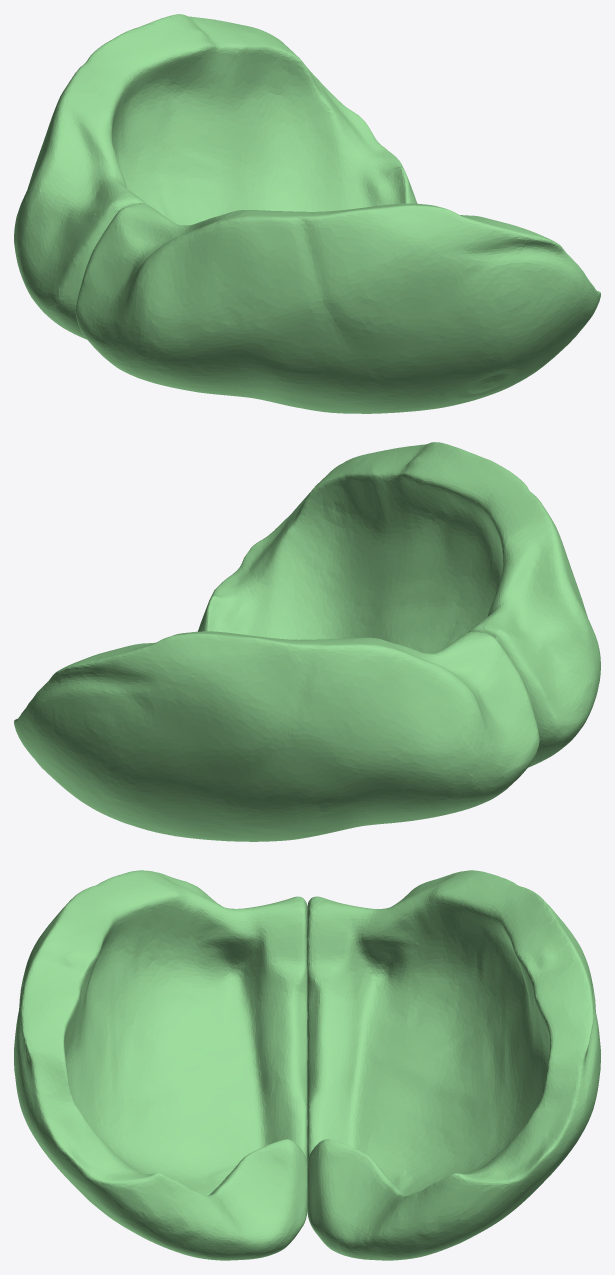
The picture shows the model from 3 angles, top to bottom: view 1: azimuth 30°, elevation 25°; view 2: azimuth 150°, elevation 25°; view 3: azimuth 270°, elevation 25°; orthographic projection.
Visible parts, largest first — view 1: 315.obj; view 2: 315.obj; view 3: 315.obj.
Boxes of the visible parts, x1,y1,x2,y2 form: 315.obj: (14,14,600,413); 315.obj: (14,442,600,841); 315.obj: (14,870,600,1260).
Size of the model in its own units: 8570 by 5384 by 10371.
